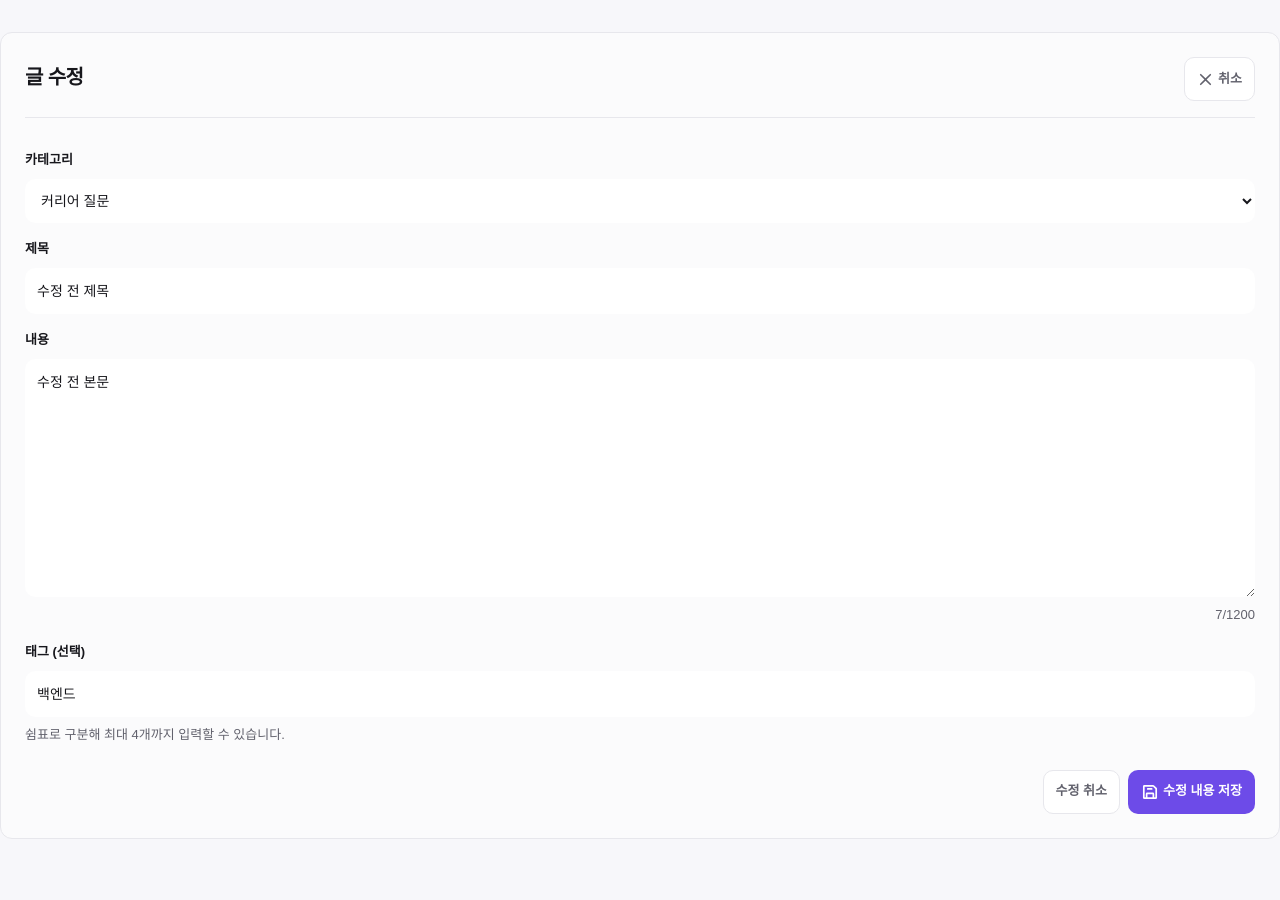
Test: ServerPostEditor › keeps typed content recoverable after a server failure
The image size is (1280, 900).
Replace the text in the field labelled "제목" with "서버 재시도용 제목" at coordinates (640, 291), box [25,268,1255,314]
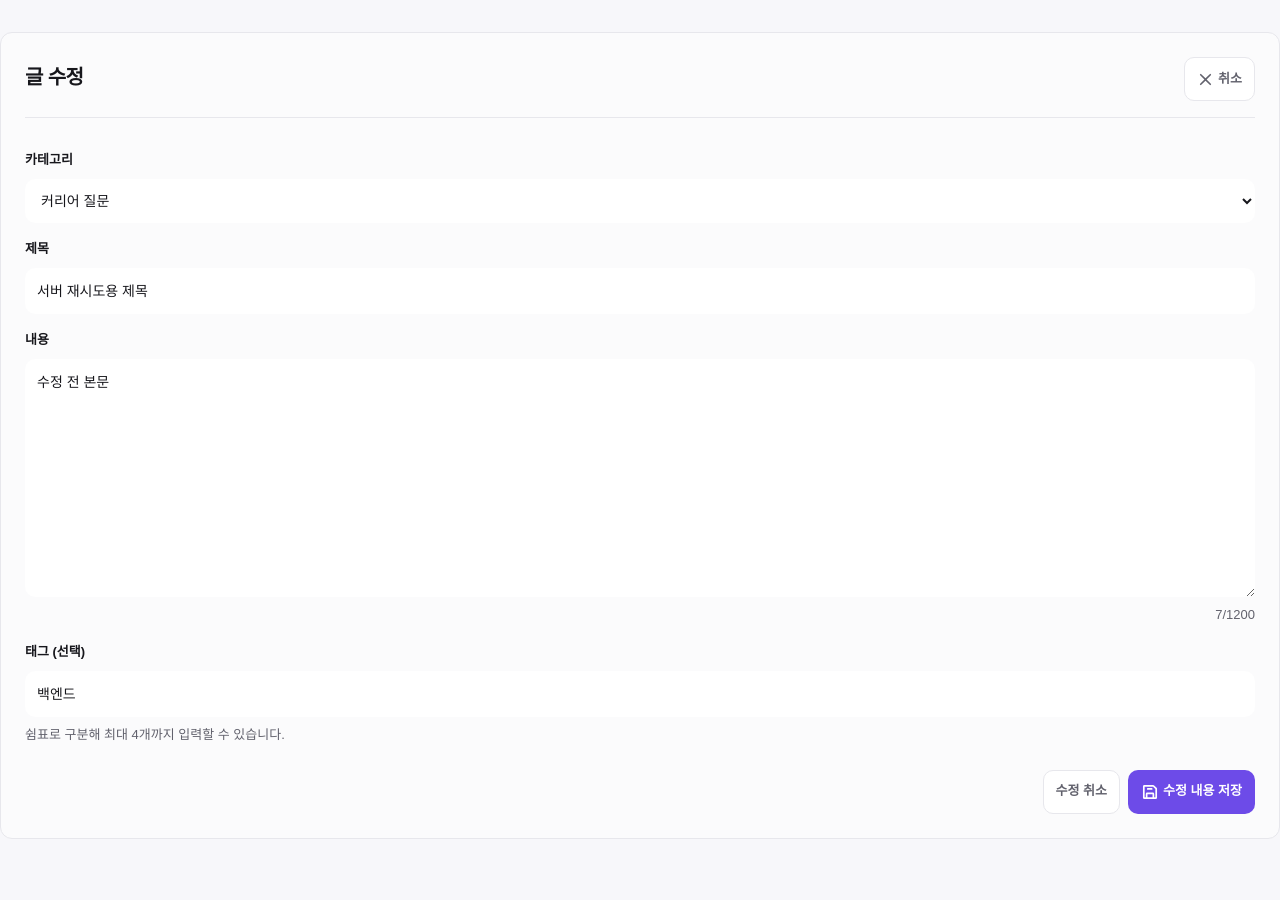
Click the button "수정 내용 저장" at coordinates (1192, 792), box [1128,770,1255,814]
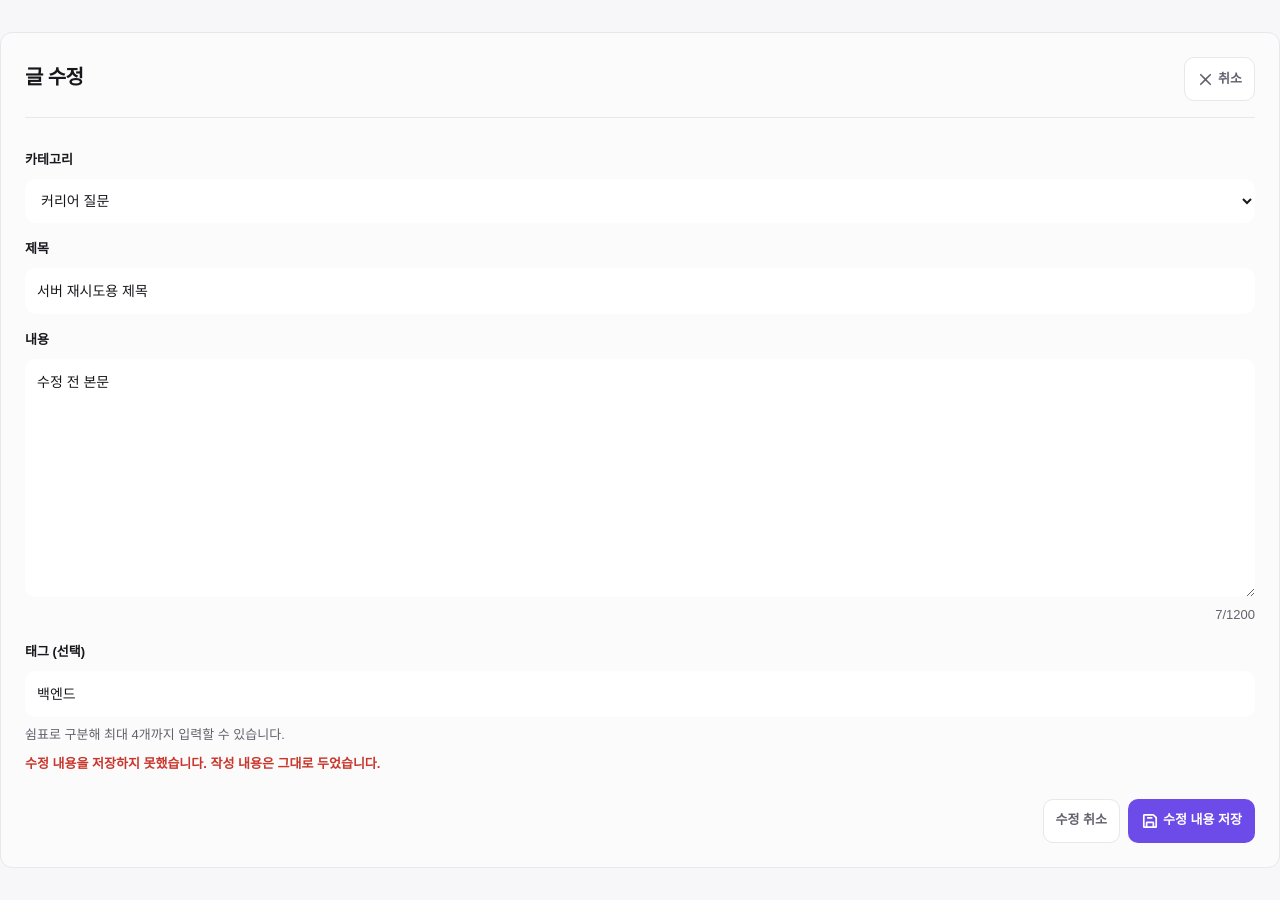
Now the message reads "수정 내용을 저장하지 못했습니다. 작성 내용은 그대로 두었습니다.", box [25,756,380,771]
